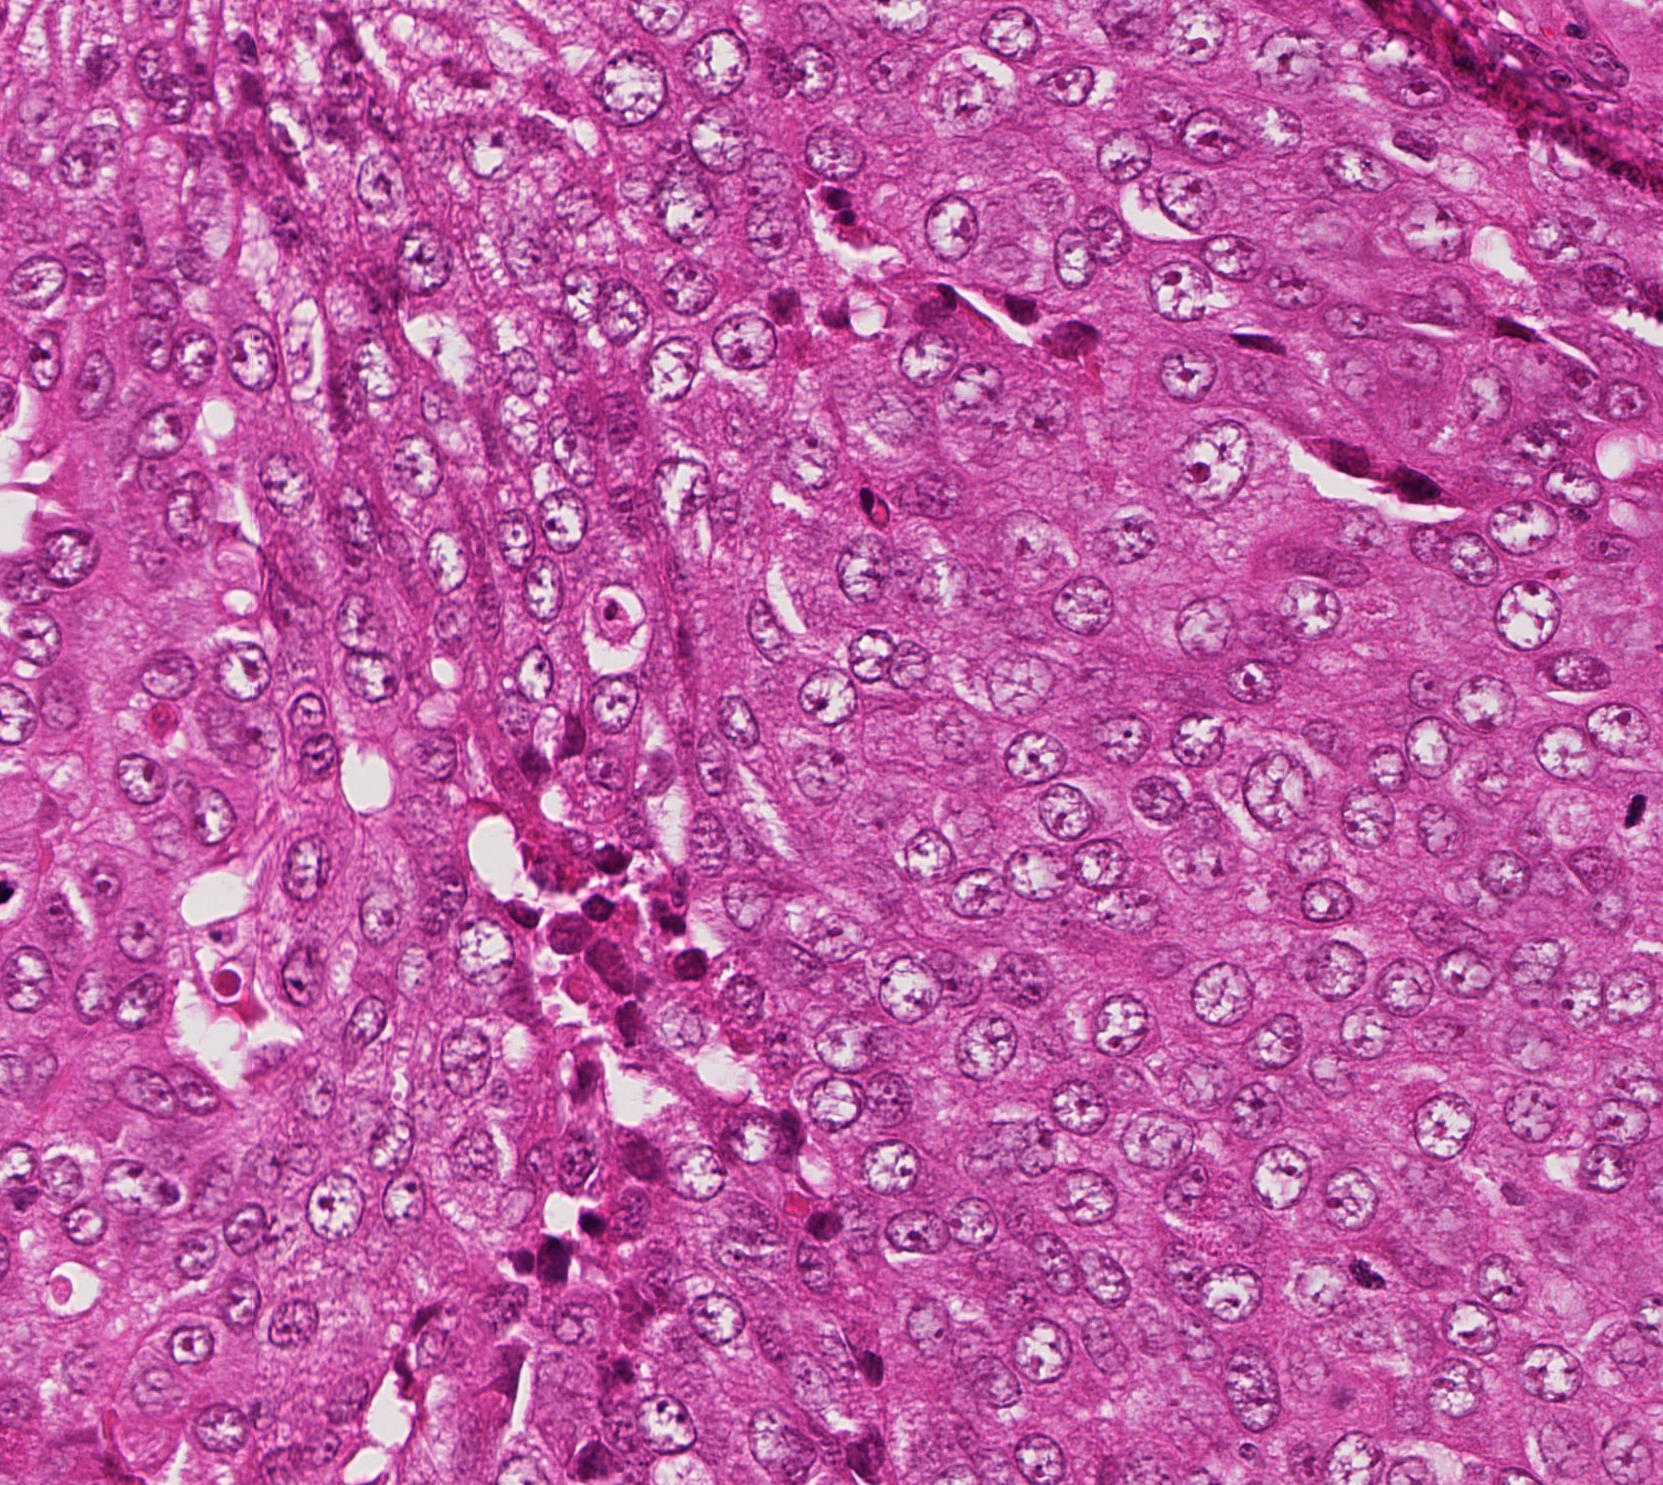mitosis: (1598, 780, 1659, 840)
